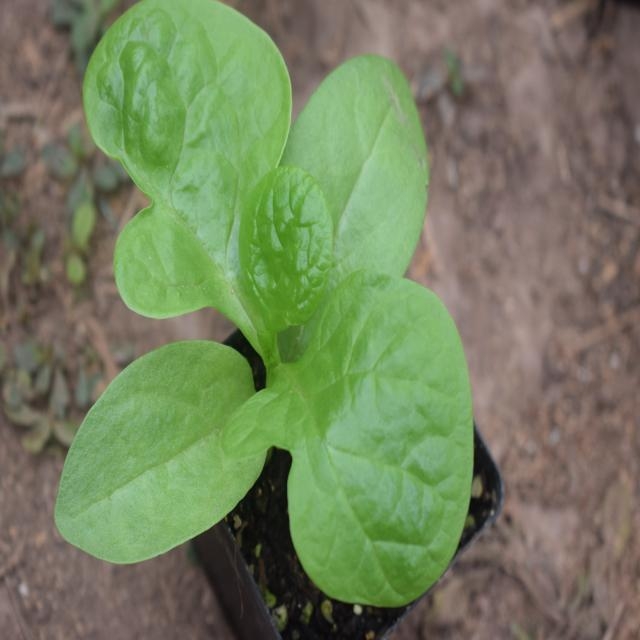Ceylon spinach: (61, 0, 451, 573)
